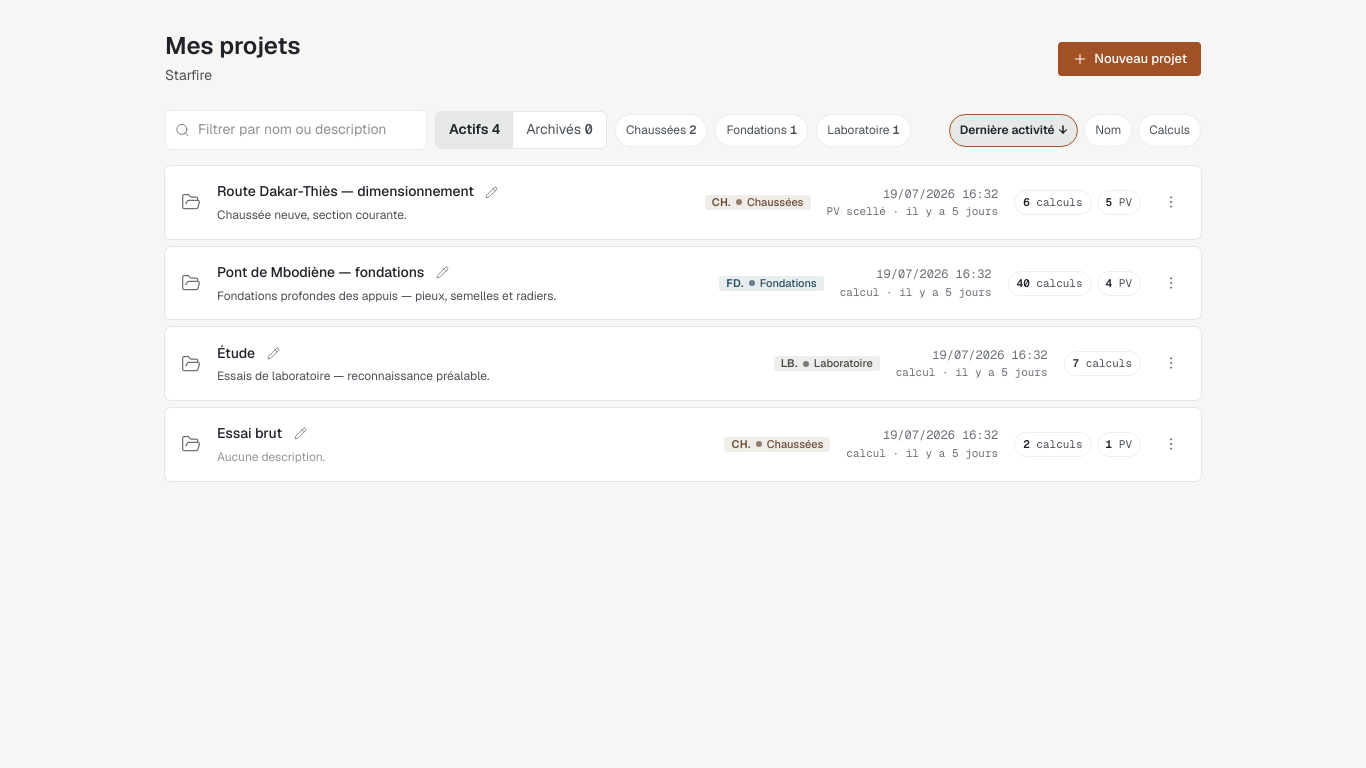
Test: Liste des projets — suppression définitive › #1 GIVEN le menu d’un projet — WHEN on clique « Supprimer définitivement » — THEN la modale annonce l’irréversibilité
Click the button named "Actions sur le projet Route Dakar-Thiès — dimensionnement" at (1171, 202), box [1157,188,1185,216]
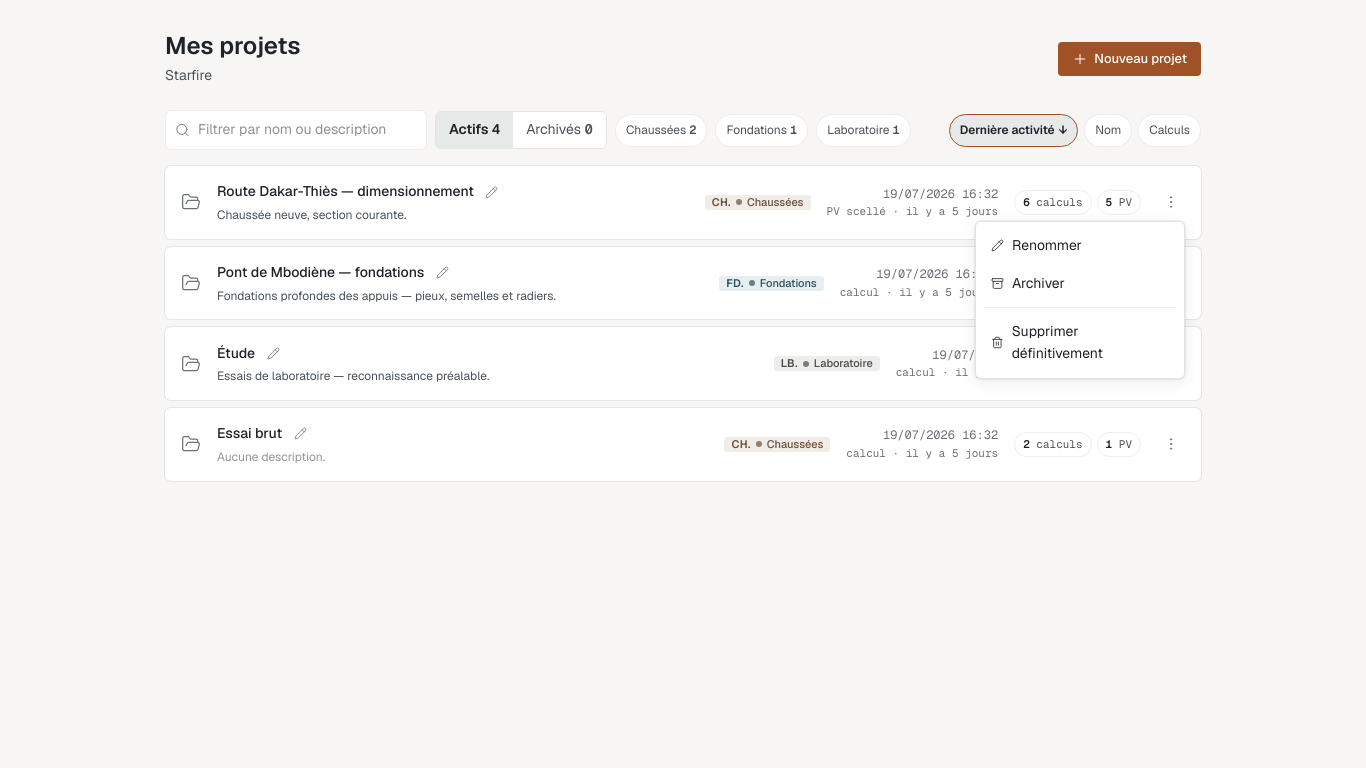
Click the menu item "Supprimer définitivement" at (1080, 343), box [981,313,1179,373]
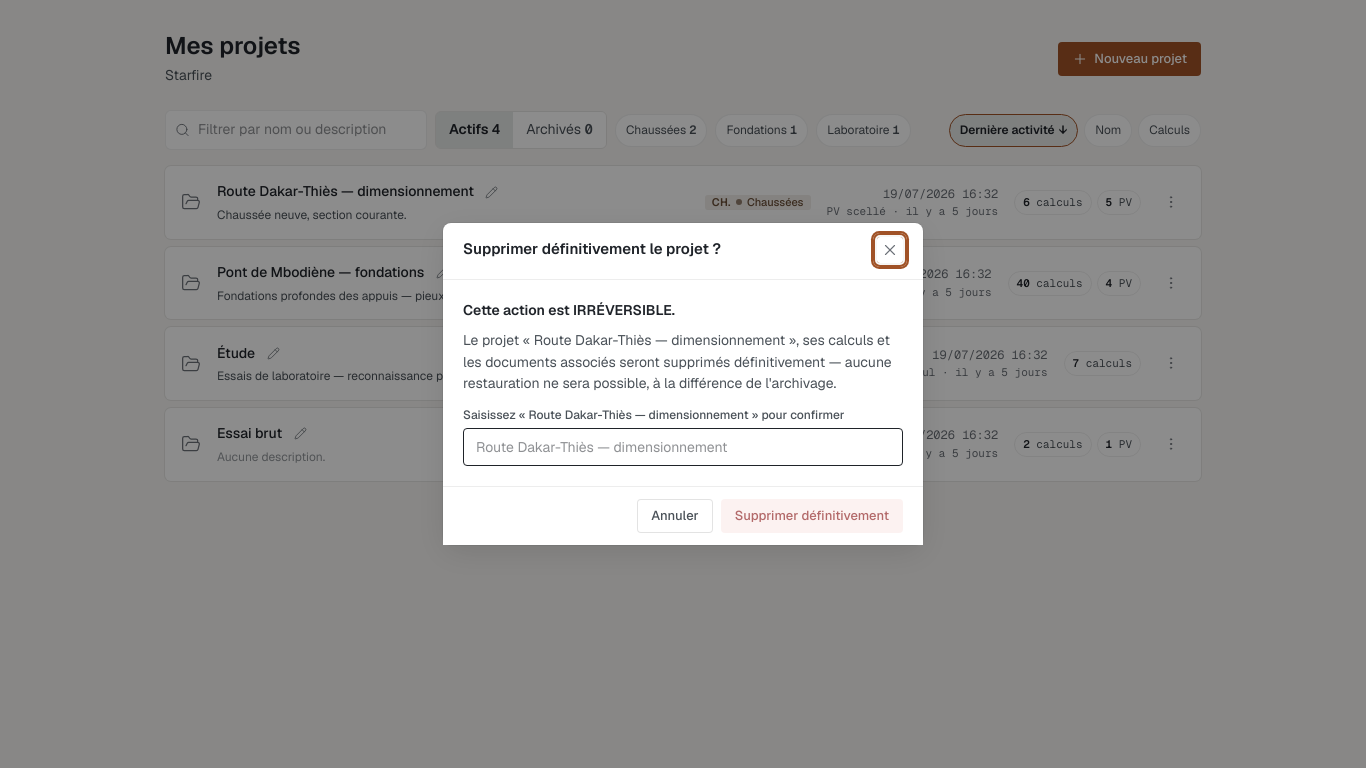
expect the text "Cette action est IRRÉVERSIBLE." is shown: met, box [463,301,675,319]
